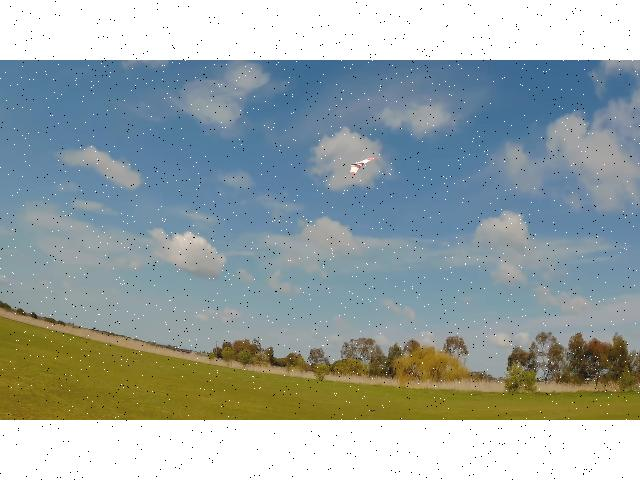Anti-Drone: (349, 157, 375, 176)
